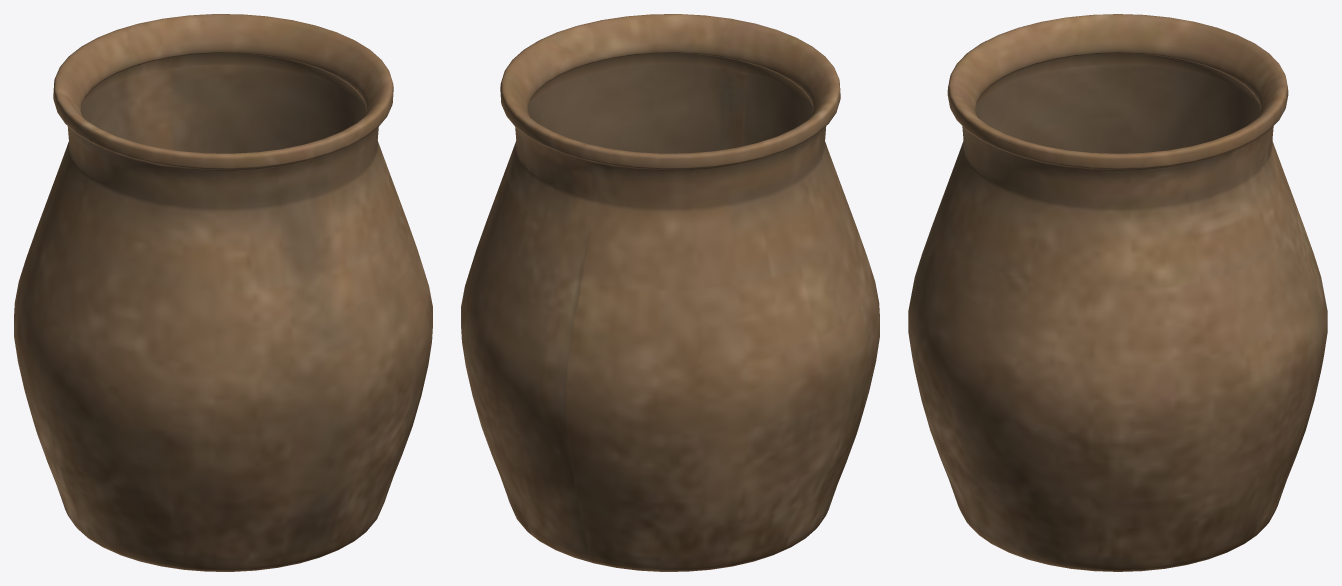
Rendered from SM_Pot_C_Body.glb.
3 renders of one model, left to right at view 1: azimuth 30°, elevation 25°; view 2: azimuth 150°, elevation 25°; view 3: azimuth 270°, elevation 25°, orthographic.
Visible parts, largest first — view 1: SM_Pot_C_Body; view 2: SM_Pot_C_Body; view 3: SM_Pot_C_Body.
Part boxes in pixels (bbox=[...]): SM_Pot_C_Body: bbox=[14, 14, 432, 571]; SM_Pot_C_Body: bbox=[461, 14, 879, 571]; SM_Pot_C_Body: bbox=[908, 14, 1327, 571].
Bounding box in the file's own units: 0.2948 × 0.3291 × 0.2948.
Materials: 1 (1 with a texture image).
